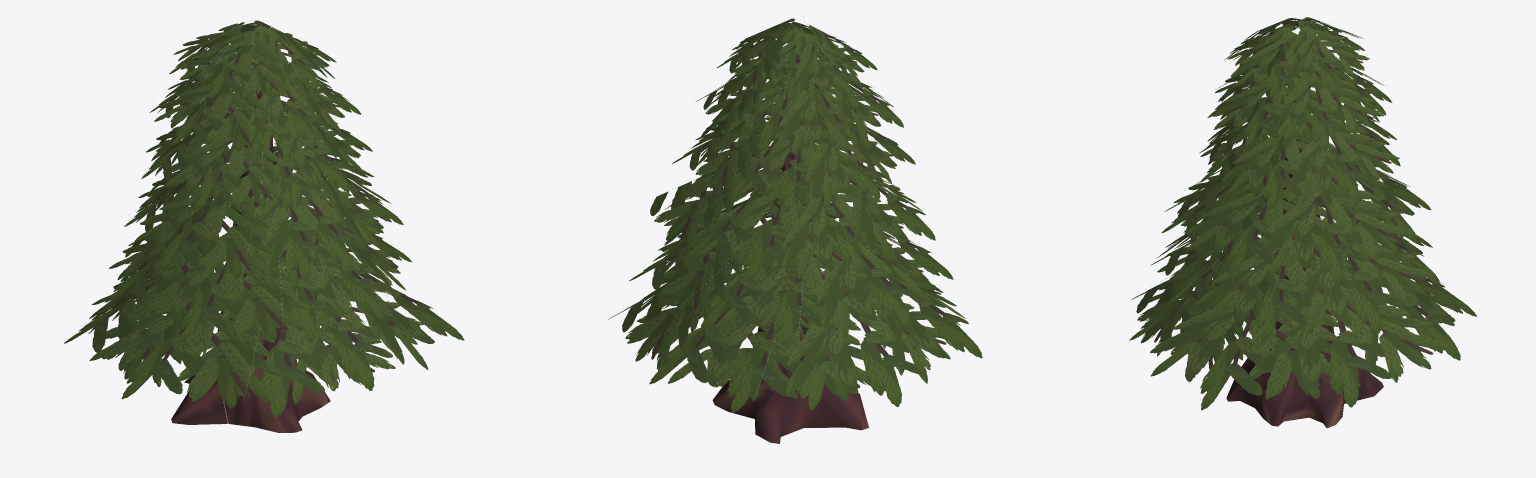
The model's file is ARC0710032.fbx.
The picture shows the model from 3 angles, left to right: view 1: azimuth 30°, elevation 25°; view 2: azimuth 150°, elevation 25°; view 3: azimuth 270°, elevation 25°; orthographic projection. The views are drawn at different scales.
Parts seen in each view (by area): view 1: smARC0710032; view 2: smARC0710032; view 3: smARC0710032.
Boxes of the visible parts, box(x1,y1,x2,y2) form: smARC0710032: box(64, 18, 464, 432); smARC0710032: box(608, 18, 982, 444); smARC0710032: box(1129, 17, 1476, 428).
Bounding box in the file's own units: 632 × 560 × 601.
1 material, 1 textured.
